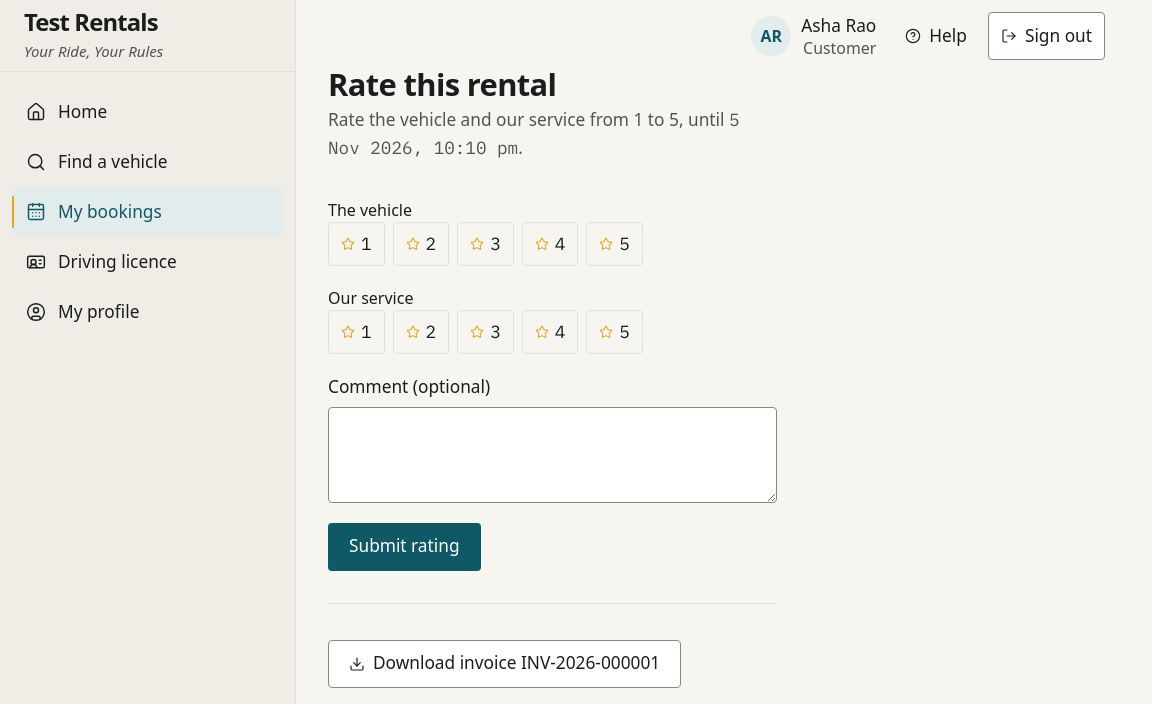
Test: Rate Vehicle (UC 6) › asks for both scores before sending
The width and height of the screenshot is (1152, 704).
(page scrolled)
Click the button "Submit rating": (404, 547) [328, 523, 480, 571]
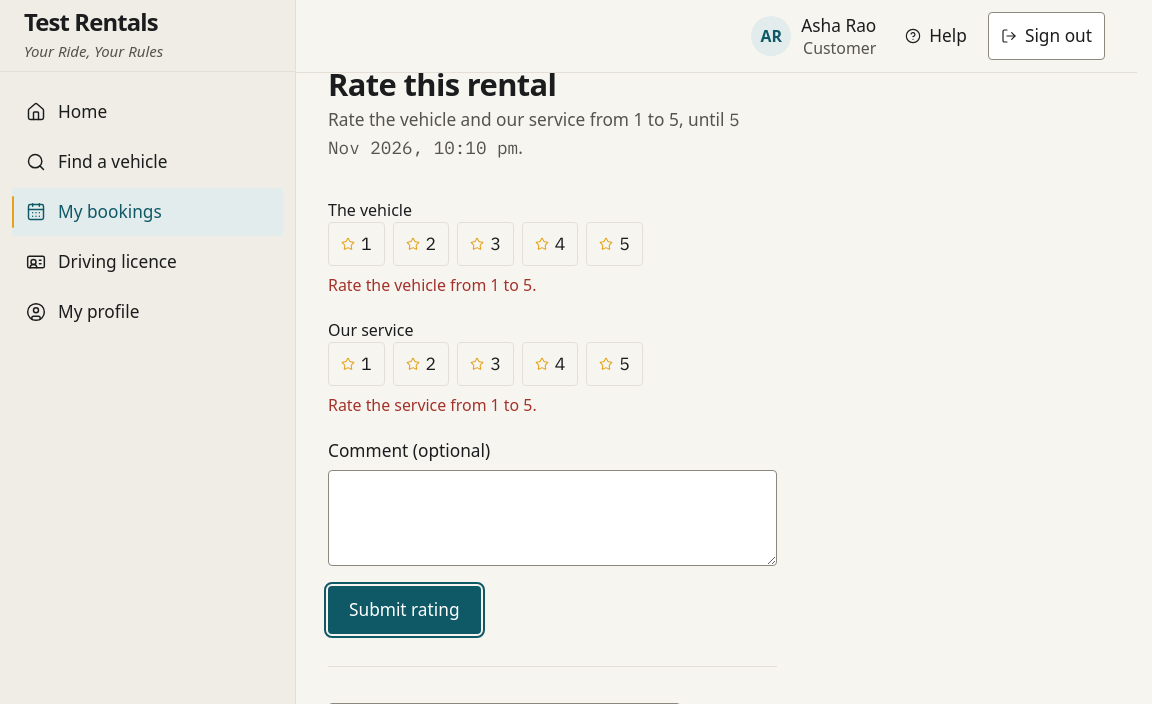
expect the text "Rate the vehicle from 1 to 5." is shown: met, box [328, 274, 536, 296]
expect the text "Rate the service from 1 to 5." is shown: met, box [328, 394, 537, 416]
